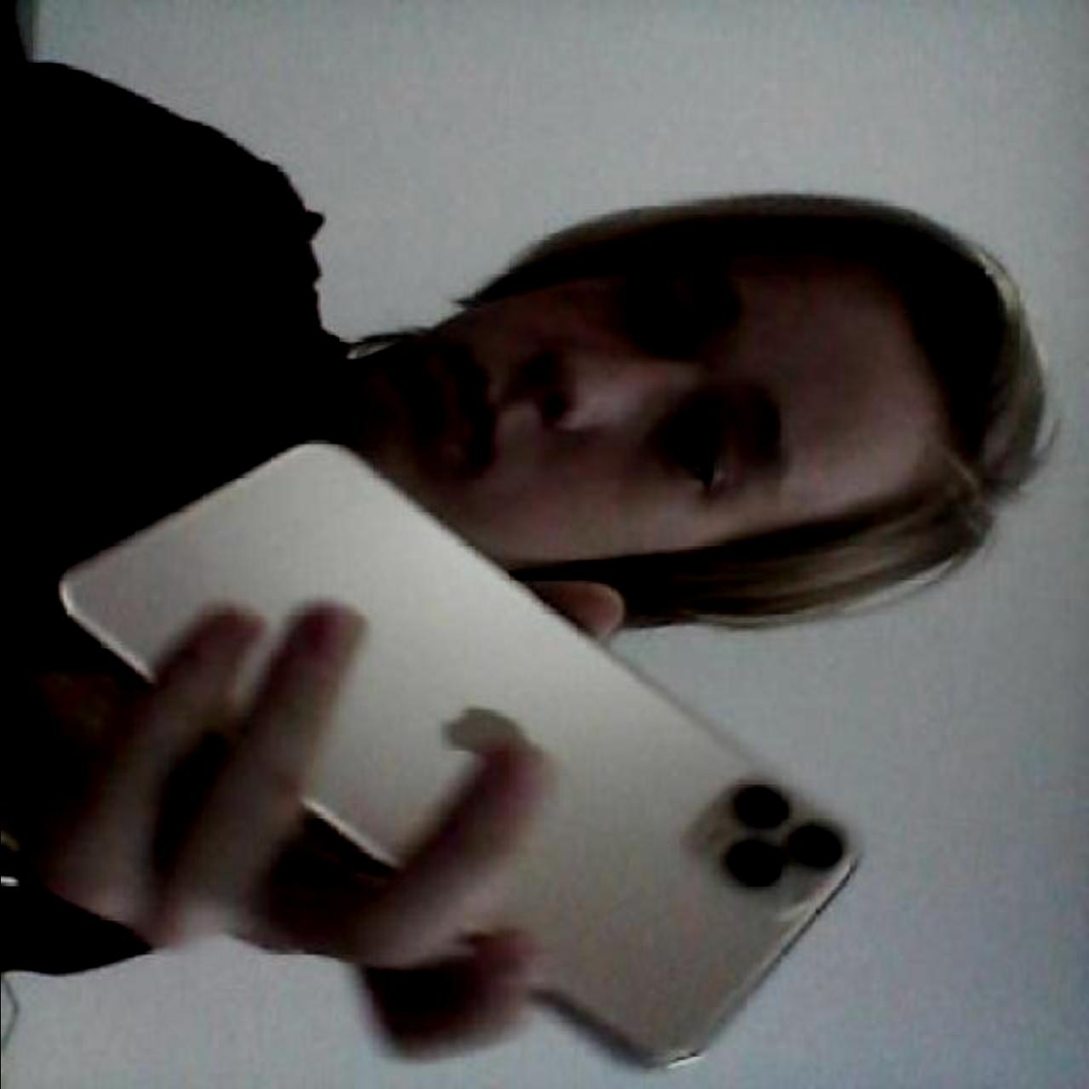phone: (32, 409, 876, 1088)
